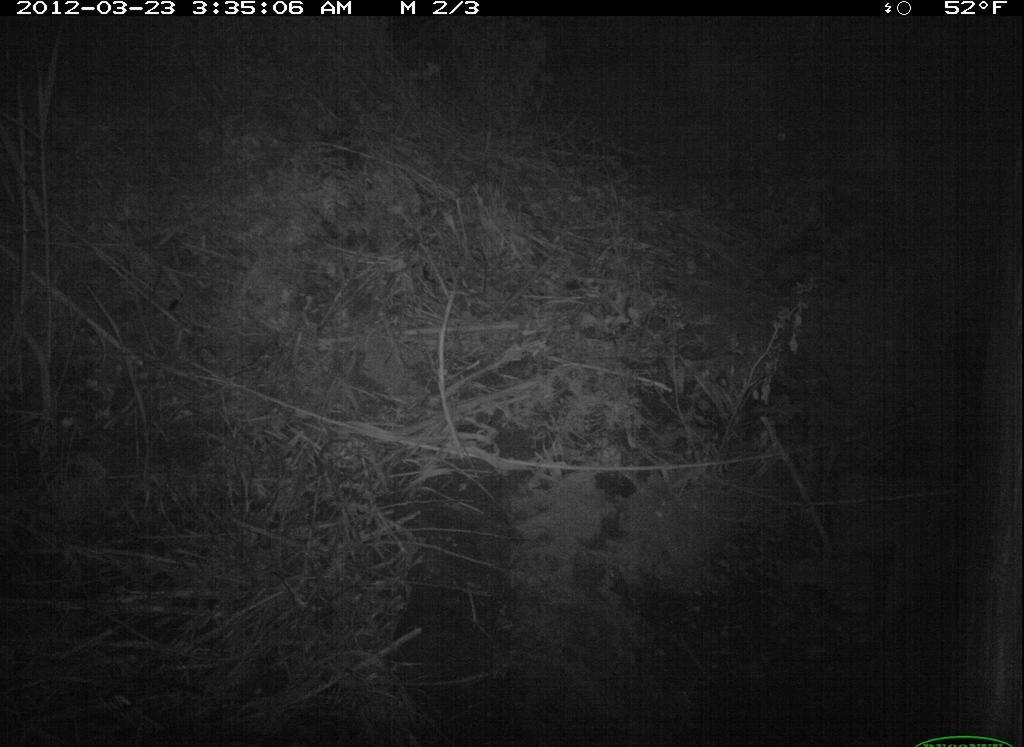opossum: (741, 222, 826, 308)
